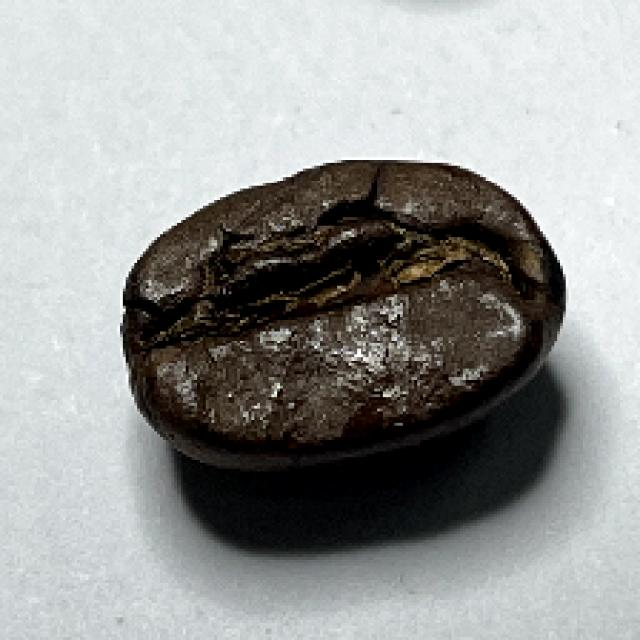bean: (116, 159, 566, 470)
